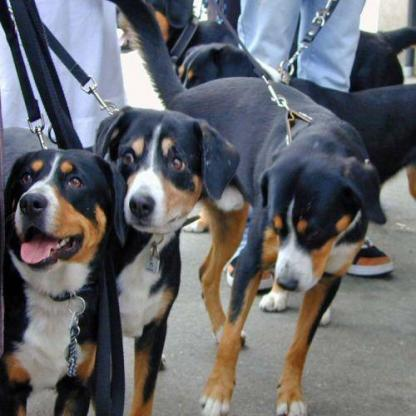EntleBucher: (117, 2, 388, 411), (90, 107, 237, 409), (178, 39, 413, 202), (0, 146, 118, 413)
